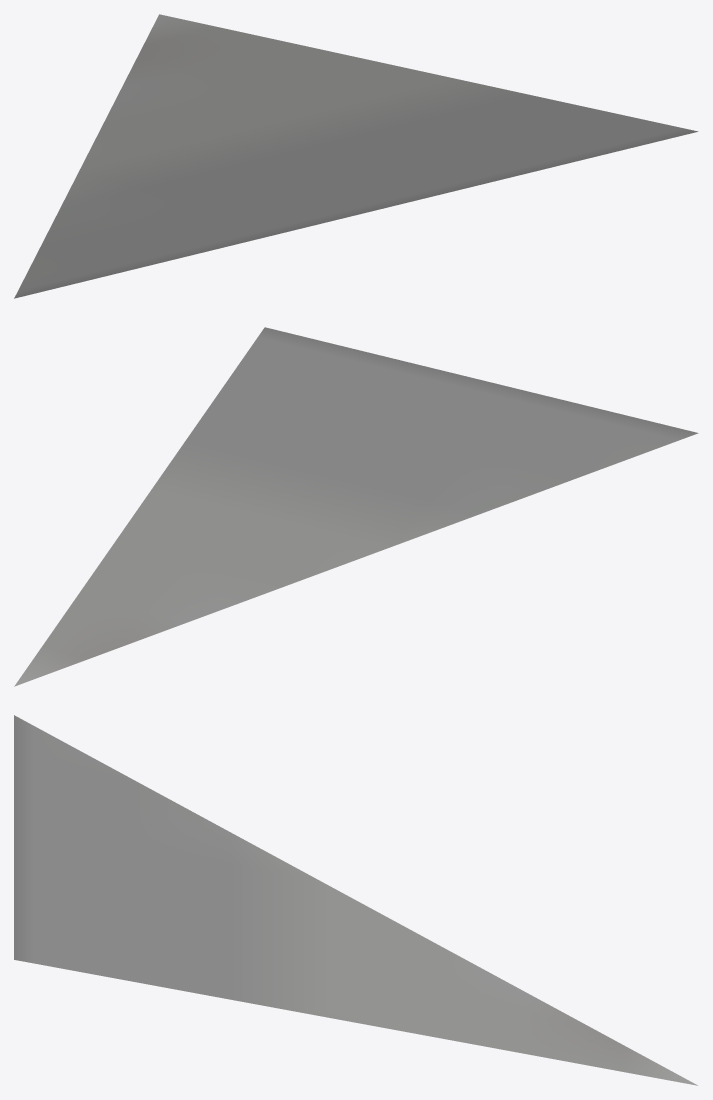
File: stereo.glb
The picture shows the model from 3 angles, top to bottom: view 1: azimuth 30°, elevation 25°; view 2: azimuth 150°, elevation 25°; view 3: azimuth 270°, elevation 25°; orthographic projection. The views are drawn at different scales.
Parts seen in each view (by area): view 1: stereo; view 2: stereo; view 3: stereo.
Boxes of the visible parts, x1,y1,x2,y2 form: stereo: (14,14,698,298); stereo: (14,327,698,686); stereo: (14,715,697,1085).
Size of the model in its own units: 0.0552 by 0.016 by 0.0653.
1 material, 1 textured.
